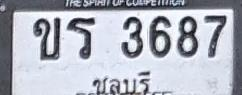3: (121, 15, 143, 58)
6: (150, 15, 170, 57)
7: (204, 14, 226, 57)
8: (177, 15, 198, 57)
A02: (32, 17, 60, 60)
A35: (66, 17, 96, 59)
CBI: (90, 69, 154, 95)
